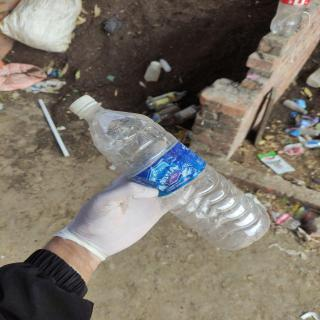Plastic-bottle: (67, 91, 276, 256)
